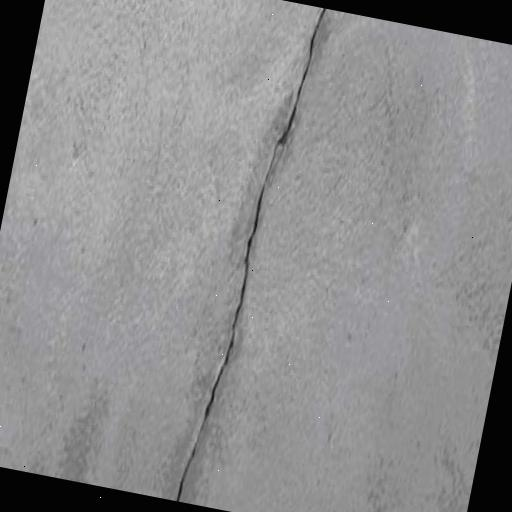spalling: (172, 13, 331, 498)
